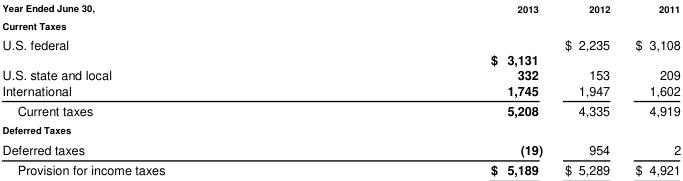table: (1, 0, 680, 178)
table column: (1, 0, 327, 178), (327, 0, 553, 178), (553, 0, 622, 178), (622, 0, 680, 178)
table column header: (1, 0, 680, 16)
table projected row header: (1, 16, 680, 33), (1, 121, 680, 138)
table row: (1, 33, 680, 66), (1, 99, 680, 121), (1, 138, 680, 159), (1, 159, 680, 178), (1, 81, 680, 99), (1, 16, 680, 33), (1, 121, 680, 138), (1, 0, 680, 16), (1, 66, 680, 81)
